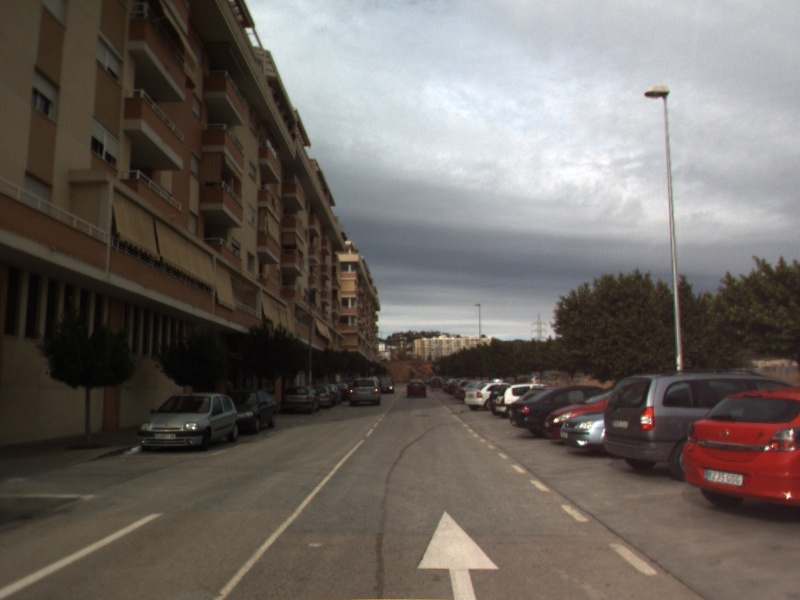STRAIGHT: (414, 507, 502, 600)
